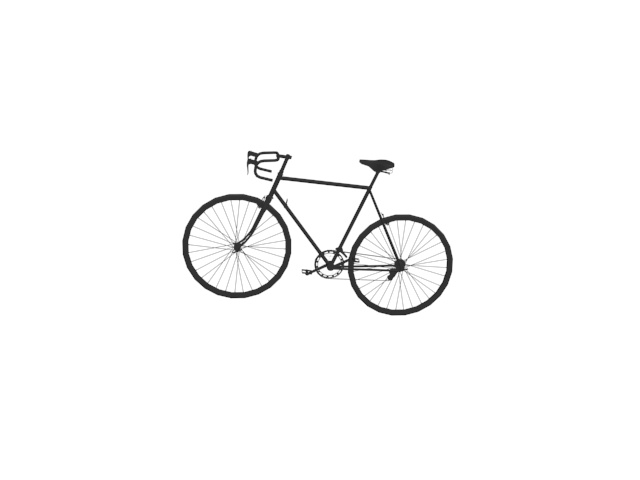bike: (177, 145, 456, 320)
